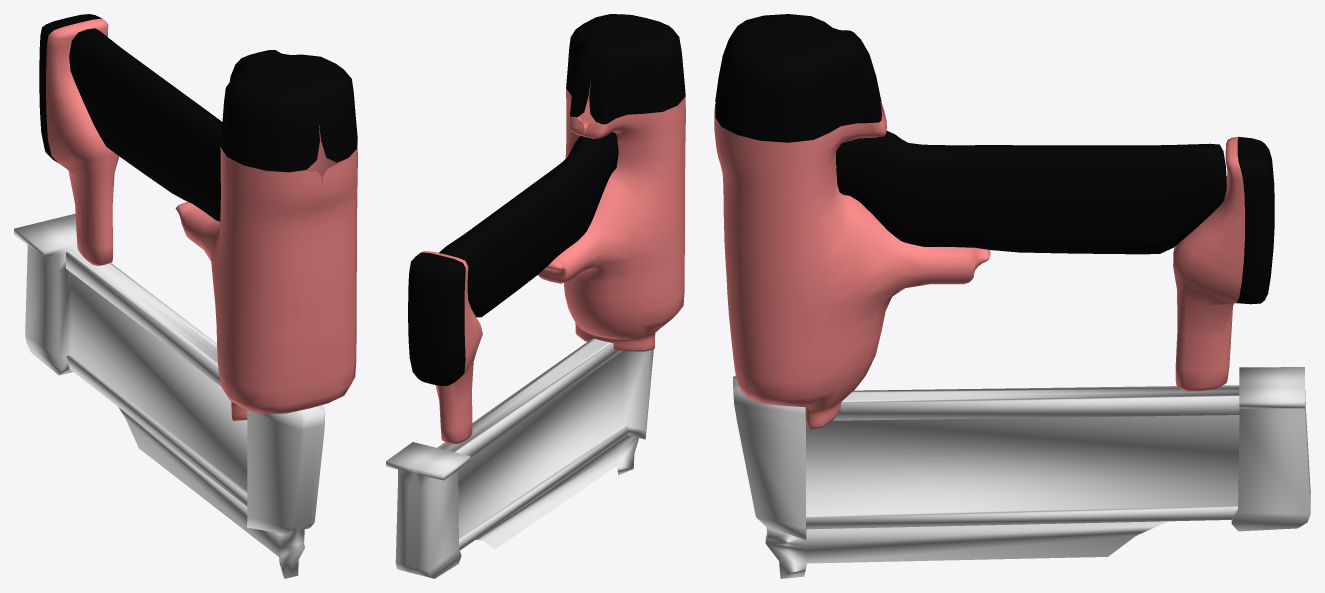
File: nail gun.fbx
The picture shows the model from 3 angles, left to right: view 1: azimuth 30°, elevation 25°; view 2: azimuth 150°, elevation 25°; view 3: azimuth 270°, elevation 25°; orthographic projection. The views are drawn at different scales.
Visible parts, largest first — view 1: Cube.005, Cube, Cube.001, Cube.003, Cube.002, Cube.004; view 2: Cube.005, Cube, Cube.001, Cube.003, Cube.004, Cube.002; view 3: Cube.005, Cube, Cube.001, Cube.003, Cube.002, Cube.004.
Part boxes in pixels (x1,y1,x2,y2): Cube.005: (14, 213, 325, 578); Cube: (175, 121, 357, 421); Cube.001: (69, 28, 222, 221); Cube.003: (220, 50, 357, 172); Cube.002: (46, 18, 119, 265); Cube.004: (39, 14, 101, 162); Cube.005: (386, 333, 655, 578); Cube: (537, 82, 685, 351); Cube.001: (439, 132, 618, 317); Cube.003: (566, 14, 685, 124); Cube.004: (408, 252, 465, 385); Cube.002: (421, 251, 482, 444); Cube.005: (733, 367, 1310, 578); Cube: (714, 101, 990, 430); Cube.001: (836, 131, 1226, 254); Cube.003: (715, 14, 881, 142); Cube.002: (1173, 136, 1244, 391); Cube.004: (1237, 137, 1274, 304).
Size of the model in its own units: 110 by 435 by 434.
